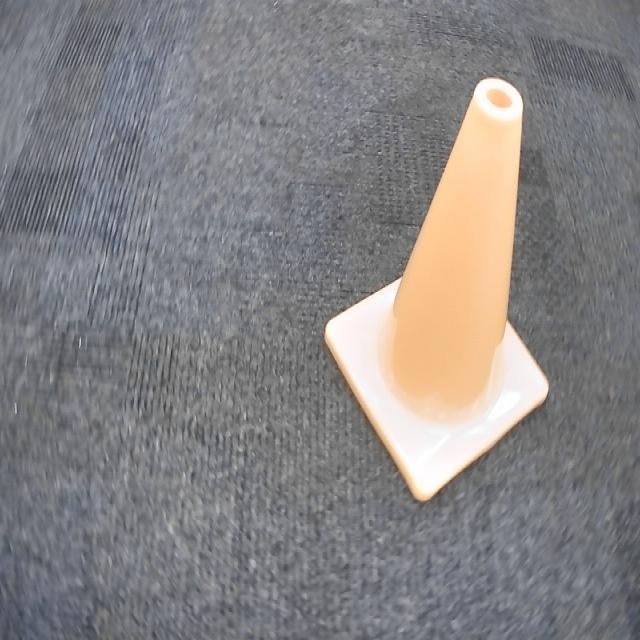cone: (325, 74, 549, 508)
